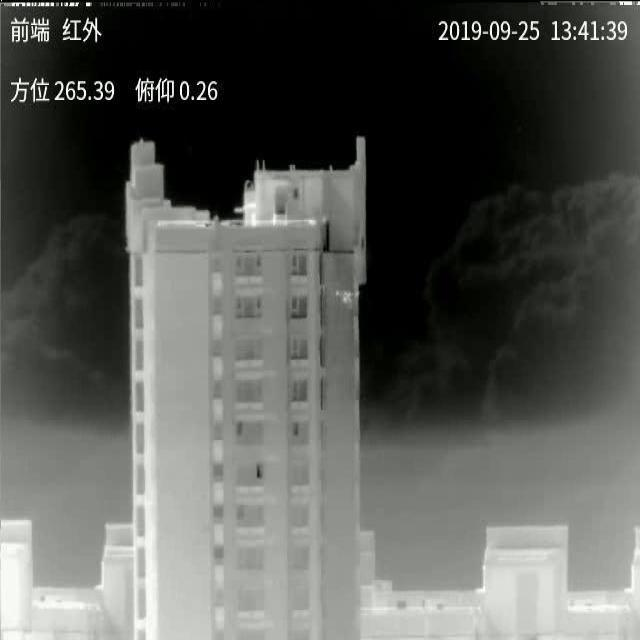drone: (335, 291, 359, 304)
